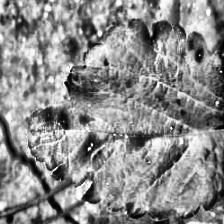Leaf Spot: (25, 18, 224, 222), (83, 183, 224, 224)
